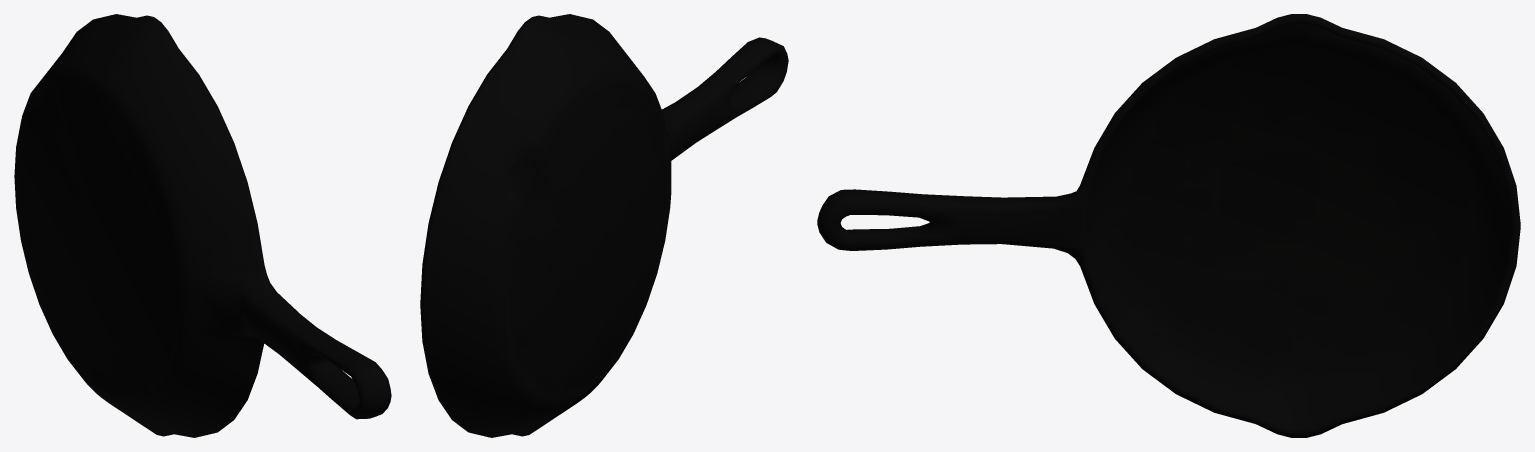
The model's file is frying_pan.obj.
3 views of the same model, side by side, from view 1: azimuth 30°, elevation 25°; view 2: azimuth 150°, elevation 25°; view 3: azimuth 270°, elevation 25° (orthographic). The views are drawn at different scales.
Parts seen in each view (by area): view 1: c_frying_pan_reference_c_frying_pan_reference.001; view 2: c_frying_pan_reference_c_frying_pan_reference.001; view 3: c_frying_pan_reference_c_frying_pan_reference.001.
Part boxes in pixels (bbox=[...]): c_frying_pan_reference_c_frying_pan_reference.001: bbox=[14, 14, 391, 437]; c_frying_pan_reference_c_frying_pan_reference.001: bbox=[420, 14, 788, 437]; c_frying_pan_reference_c_frying_pan_reference.001: bbox=[817, 14, 1520, 437].
Bounding box in the file's own units: 2.63 × 16.42 × 24.84.
1 material, 1 textured.
